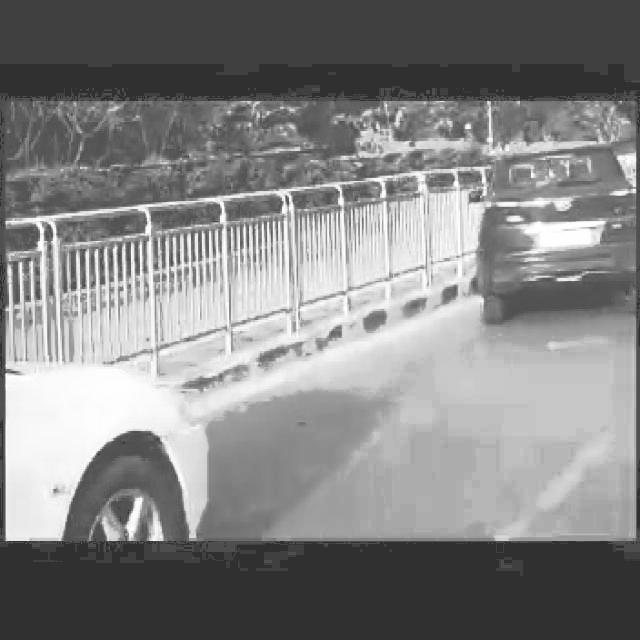Car: (4, 351, 220, 547), (462, 136, 640, 336)
